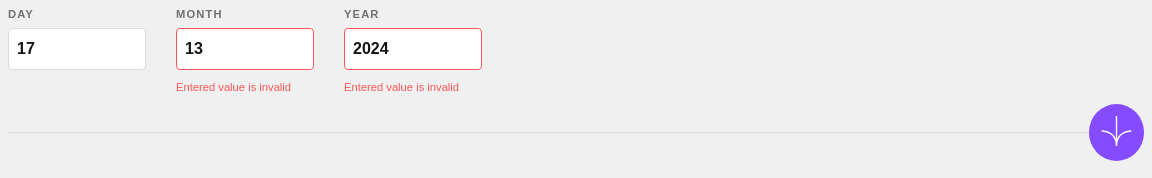
Test case: CalculatorForm › Entered day > 31, day input shows error
The image size is (1152, 178).
Replace the text in the field with id "age-day" with "32": x=77, y=49 top-left (8, 28), bottom-right (146, 70)
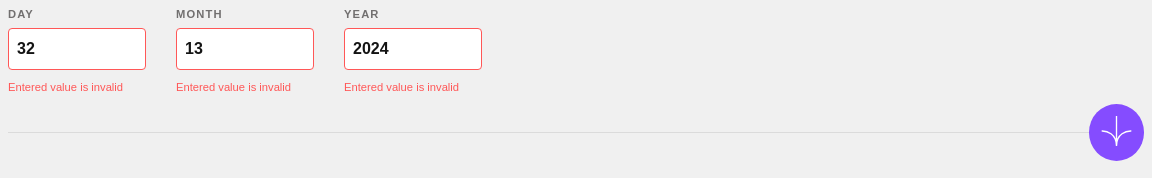
Now the text with class "input-error--day" reads "Entered value is invalid", box top-left (8, 81), bottom-right (123, 93)
